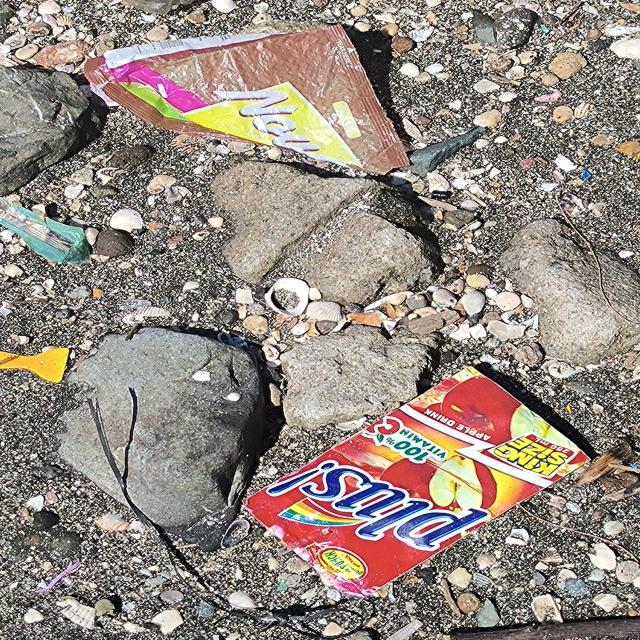plastic_waste: (242, 364, 594, 599), (82, 26, 414, 177), (1, 202, 93, 264)
